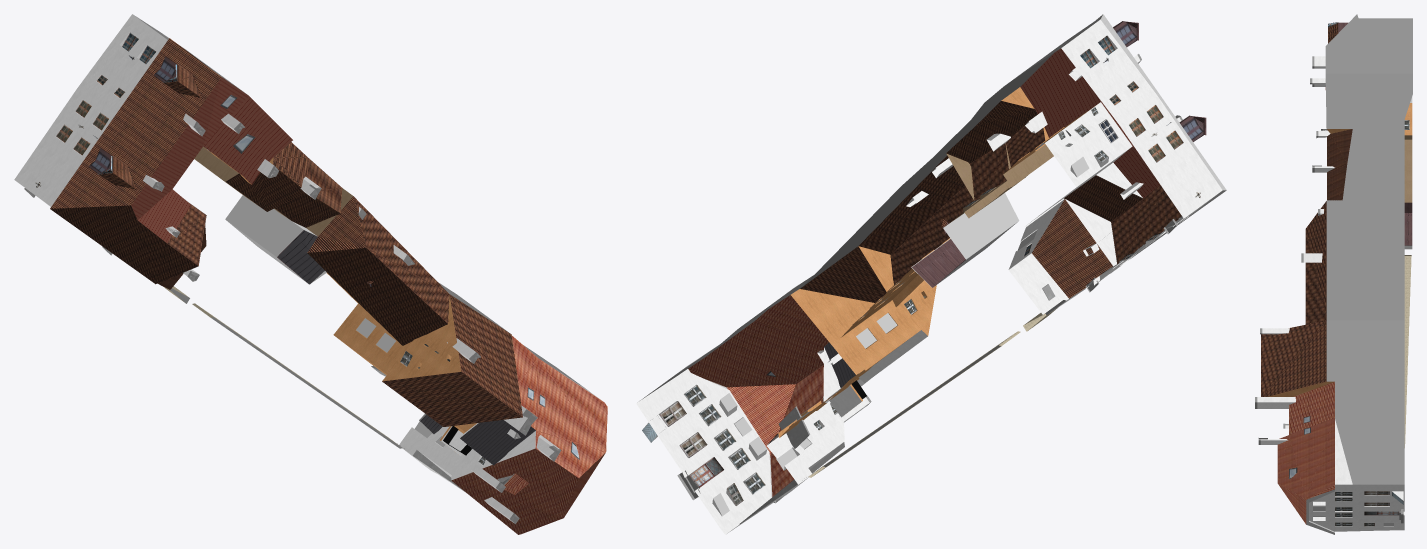
The model's file is Lai_33-origo.obj.
The picture shows the model from 3 angles, left to right: view 1: azimuth 30°, elevation 25°; view 2: azimuth 150°, elevation 25°; view 3: azimuth 270°, elevation 25°; orthographic projection. The views are drawn at different scales.
Visible parts, largest first — view 1: Lai_33; view 2: Lai_33; view 3: Lai_33.
Part boxes in pixels (x1=…): Lai_33: x1=14, y1=14, x2=607, y2=534; Lai_33: x1=636, y1=14, x2=1226, y2=534; Lai_33: x1=1255, y1=14, x2=1412, y2=534.
Size of the model in its own units: 56.06 by 56 by 19.81.
